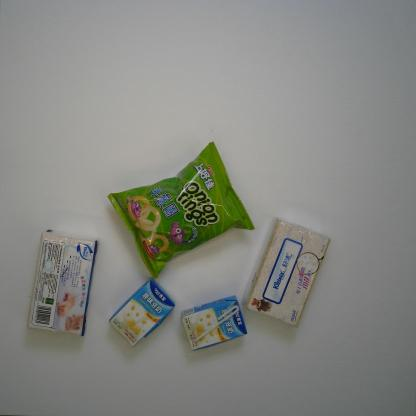Milk: (108, 277, 177, 348), (181, 295, 248, 351)
Puffed Food: (108, 140, 256, 279)
Tissue: (244, 220, 331, 328), (26, 230, 98, 336)
